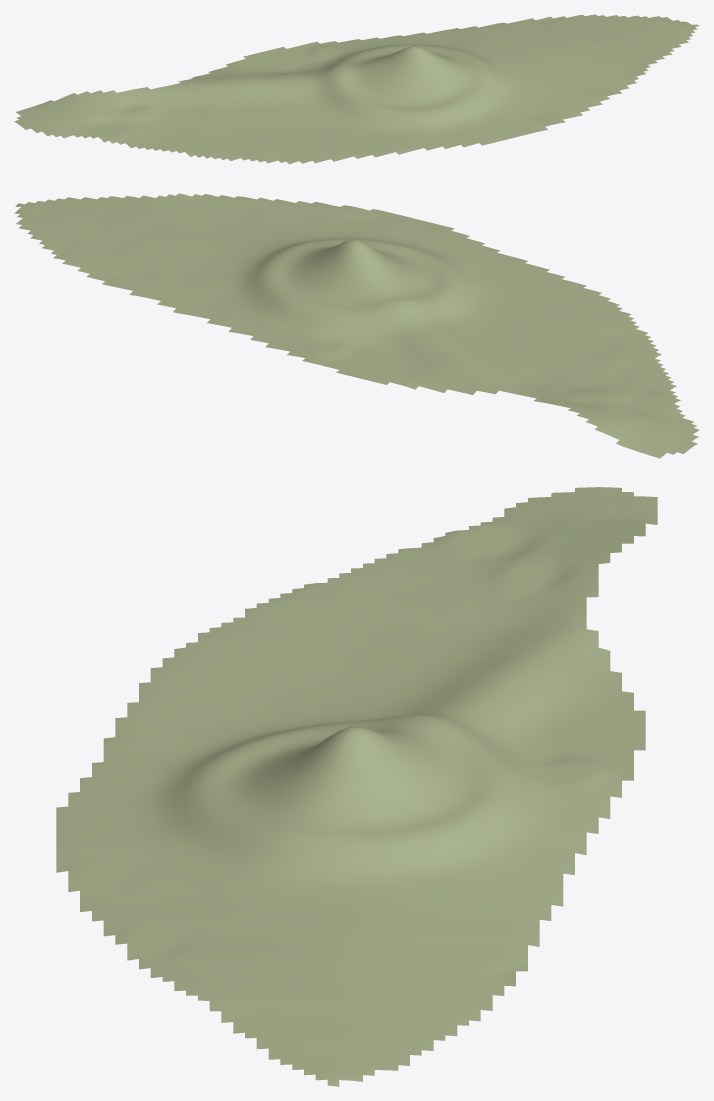
Rendered from tenerife-island-location.glb.
The picture shows the model from 3 angles, top to bottom: view 1: azimuth 30°, elevation 25°; view 2: azimuth 150°, elevation 25°; view 3: azimuth 270°, elevation 25°; orthographic projection. The views are drawn at different scales.
Parts seen in each view (by area): view 1: env_tenerife_full_island_terrain_1unit_1km; view 2: env_tenerife_full_island_terrain_1unit_1km; view 3: env_tenerife_full_island_terrain_1unit_1km.
Part boxes in pixels (x1=…): env_tenerife_full_island_terrain_1unit_1km: x1=14, y1=14, x2=699, y2=164; env_tenerife_full_island_terrain_1unit_1km: x1=14, y1=193, x2=699, y2=458; env_tenerife_full_island_terrain_1unit_1km: x1=56, y1=487, x2=657, y2=1086.
Bounding box in the file's own units: 83.08 × 5.57 × 35.31.
